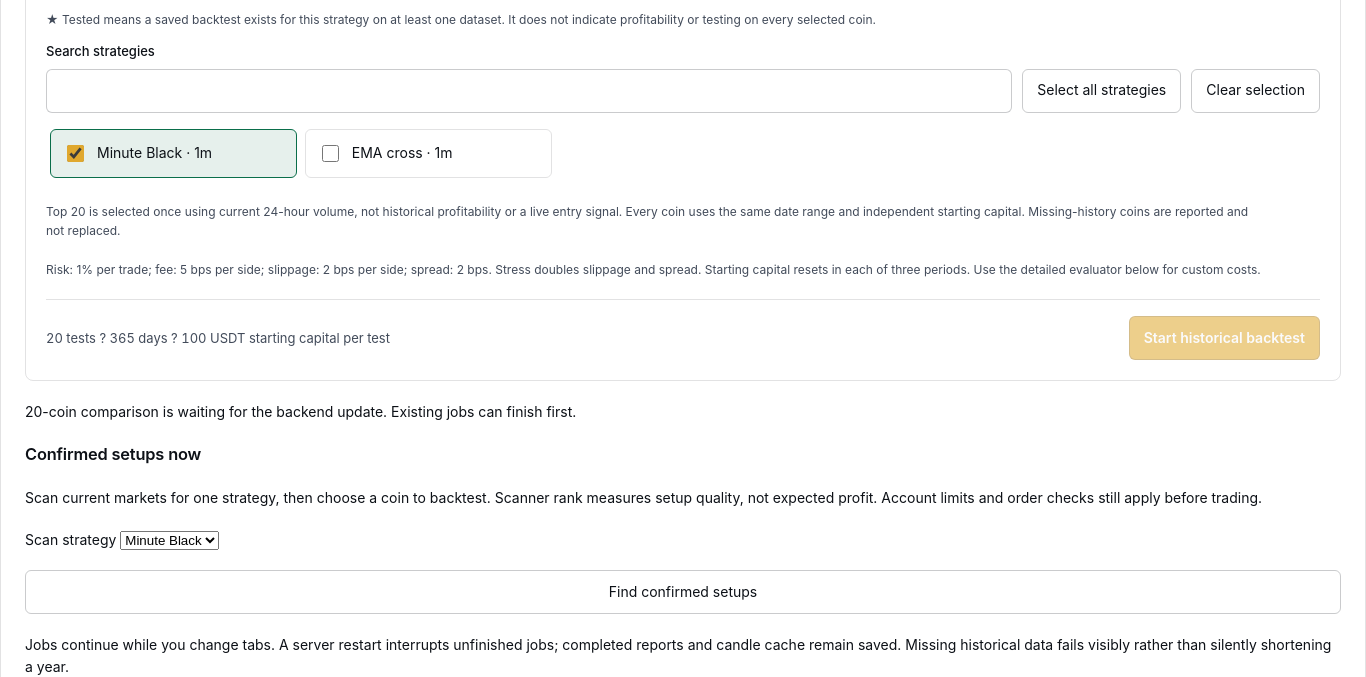
Test case: never shows stale or unconfirmed coins as ready
(page scrolled)
Click the button "Find confirmed setups" at (683, 592), box [25,570,1341,614]
(page scrolled)
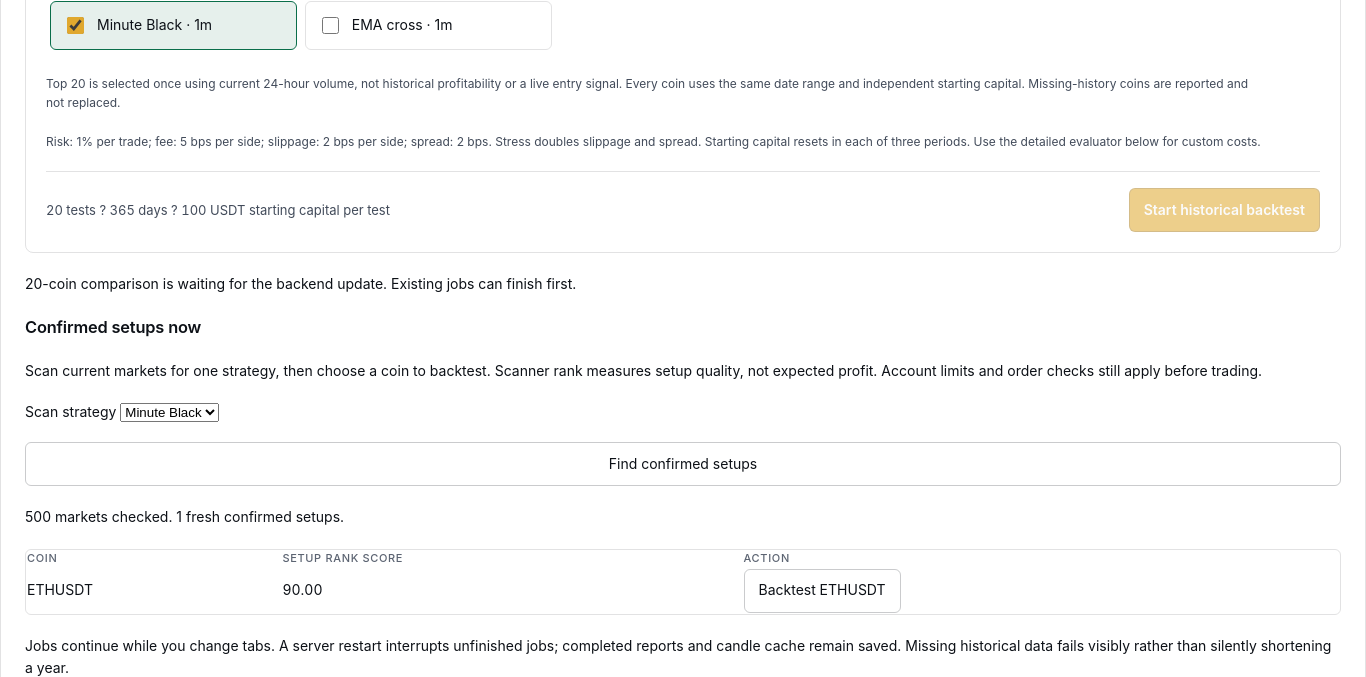
Check: the button "Backtest ETHUSDT" is shown
Click the button "Backtest ETHUSDT" at (822, 591), box [744,569,901,613]
(page scrolled)
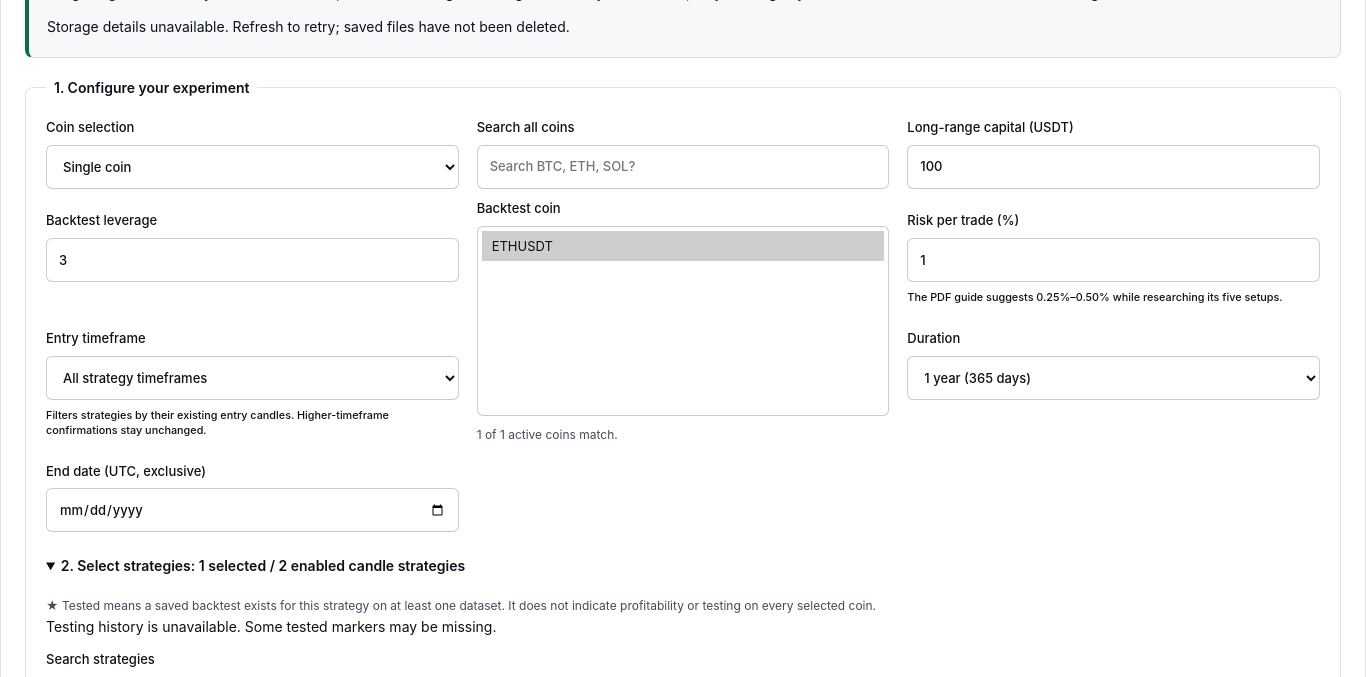
Check: the dropdown labelled "Backtest coin" shows "ETHUSDT", box [477,226,889,416]
